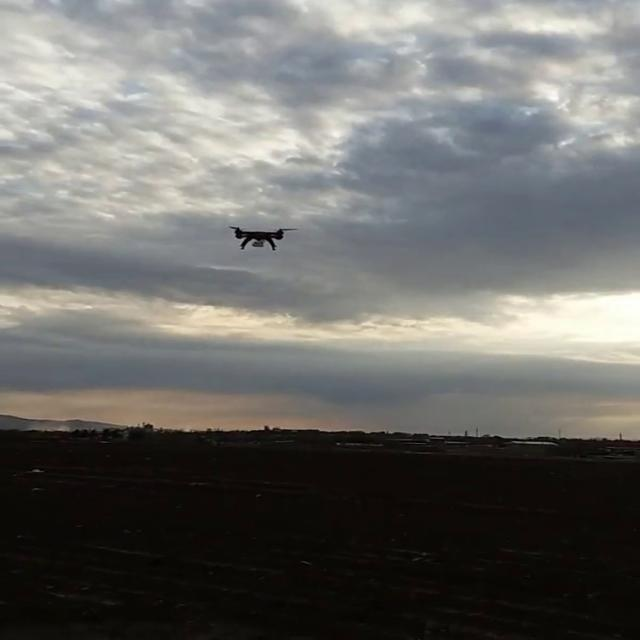drone: (223, 221, 300, 253)
